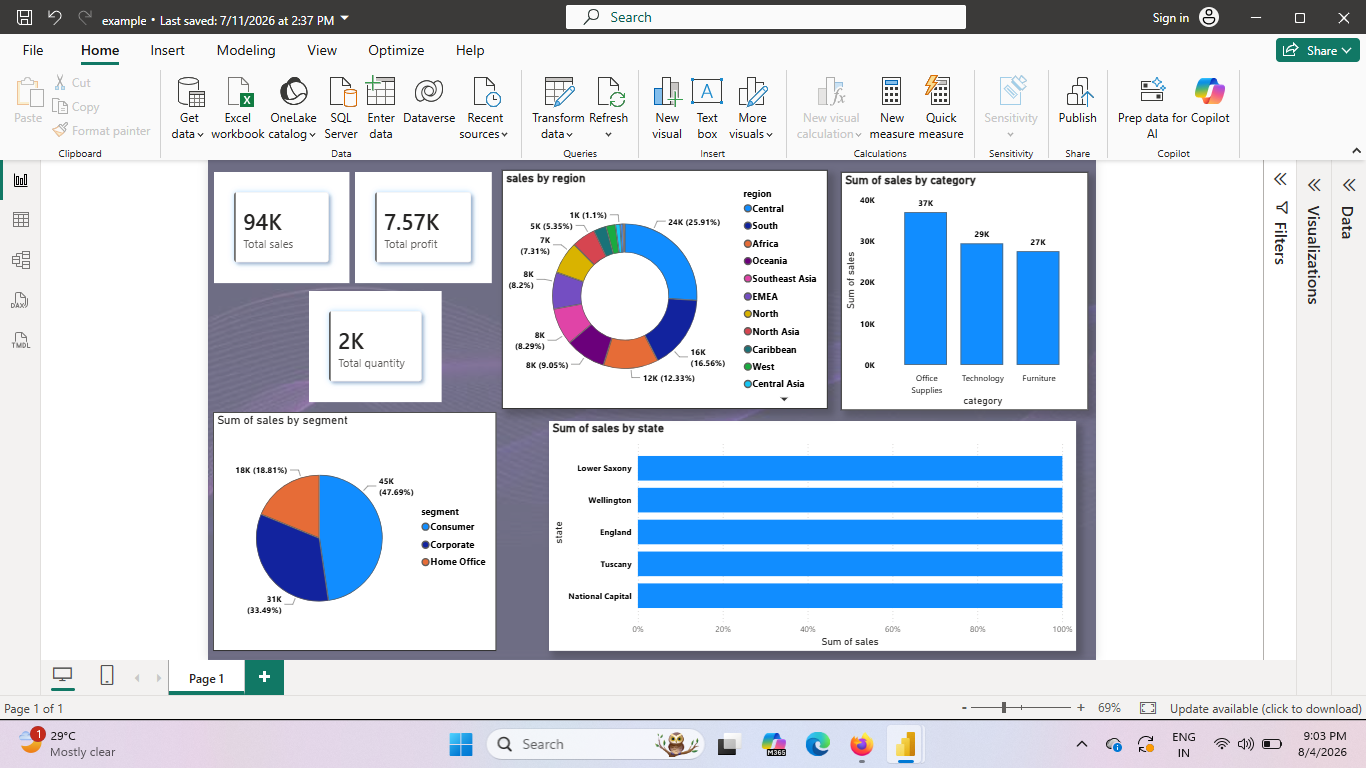

The page's visual inventory and layout, read from the dashboard file:
{"tool":"powerbi","page":{"name":"Page 1","canvas":[1280,720],"ordinal":0},"visuals":[{"type":"cardVisual","title":"Total sales","fields":{"Data":["Sum(superstore sql.sales)"]},"box":[8.4,16.8,194.9,159.6],"z":0},{"type":"cardVisual","fields":{"Data":["Sum(superstore sql.profit)"]},"box":[211.7,16.8,196.5,159.6],"z":1000},{"type":"cardVisual","fields":{"Data":["Sum(superstore sql.quantity)"]},"box":[146.1,188.1,191.5,159.6],"z":2000},{"type":"clusteredColumnChart","fields":{"Category":["superstore sql.category"],"Y":["Sum(superstore sql.sales)"]},"box":[912.1,16.8,356.1,342.7],"z":3000},{"type":"pieChart","fields":{"Category":["superstore sql.segment"],"Y":["Sum(superstore sql.sales)"]},"box":[6.7,362.8,408.2,344.4],"z":4000},{"type":"hundredPercentStackedBarChart","fields":{"Category":["superstore sql.state"],"Y":["Sum(superstore sql.sales)"]},"box":[490.5,376.3,759.3,330.9],"z":5000},{"type":"donutChart","fields":{"Category":["superstore sql.region"],"Y":["Sum(superstore sql.sales)"]},"box":[423.3,15.1,468.7,344.4],"z":6000}]}

Visuals, with their boxes on the page's 1280x720 design canvas (x1, y1, x2, y2). These are canvas units, not pixel positions in the 1366x768 screenshot, which may show the page scaled, cropped or inside an application window:
"Total sales" cardVisual: x1=8, y1=17, x2=203, y2=176
cardVisual - Sum(superstore sql.profit): x1=212, y1=17, x2=408, y2=176
cardVisual - Sum(superstore sql.quantity): x1=146, y1=188, x2=338, y2=348
clusteredColumnChart - superstore sql.category x Sum(superstore sql.sales): x1=912, y1=17, x2=1268, y2=360
pieChart - superstore sql.segment x Sum(superstore sql.sales): x1=7, y1=363, x2=415, y2=707
hundredPercentStackedBarChart - superstore sql.state x Sum(superstore sql.sales): x1=490, y1=376, x2=1250, y2=707
donutChart - superstore sql.region x Sum(superstore sql.sales): x1=423, y1=15, x2=892, y2=360
